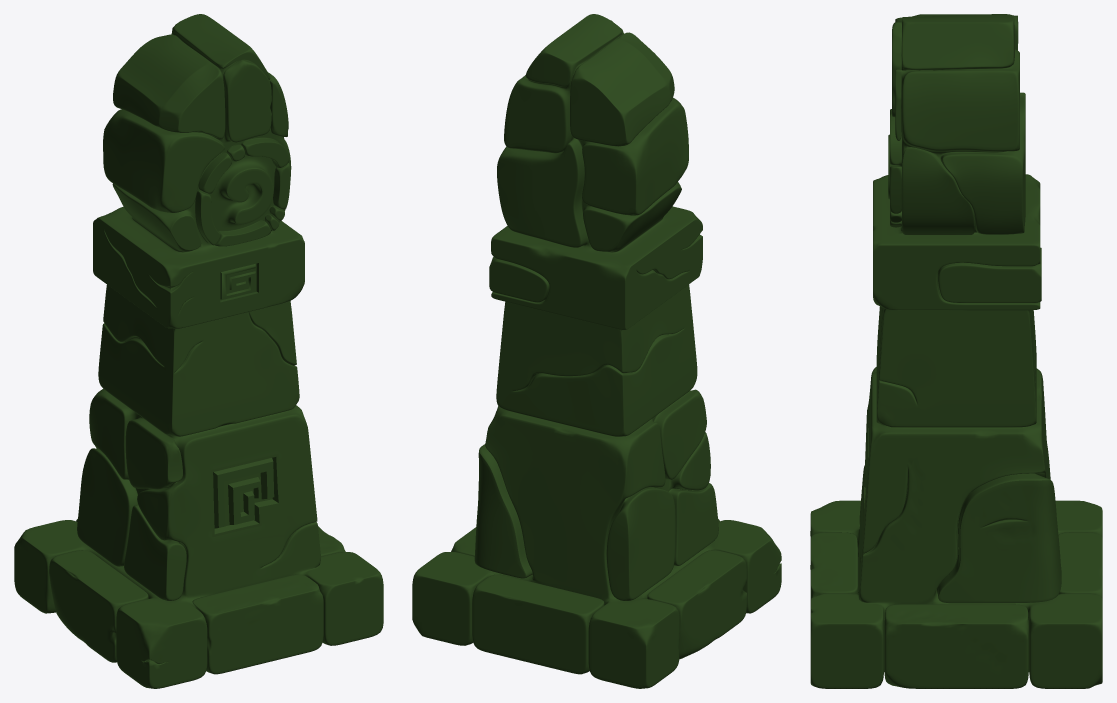
Rendered from statu.glb.
3 views of the same model, side by side, from view 1: azimuth 30°, elevation 25°; view 2: azimuth 150°, elevation 25°; view 3: azimuth 270°, elevation 25° (orthographic). The views are drawn at different scales.
Parts seen in each view (by area): view 1: Box018, Box019, Object004; view 2: Box018; view 3: Box018.
Boxes of the visible parts, x1,y1,x2,y2 form: Box018: [14, 14, 383, 688]; Box019: [213, 458, 274, 528]; Object004: [220, 264, 255, 299]; Box018: [412, 14, 781, 688]; Box018: [810, 14, 1102, 688].
Size of the model in its own units: 4.64 by 10.89 by 4.64.
